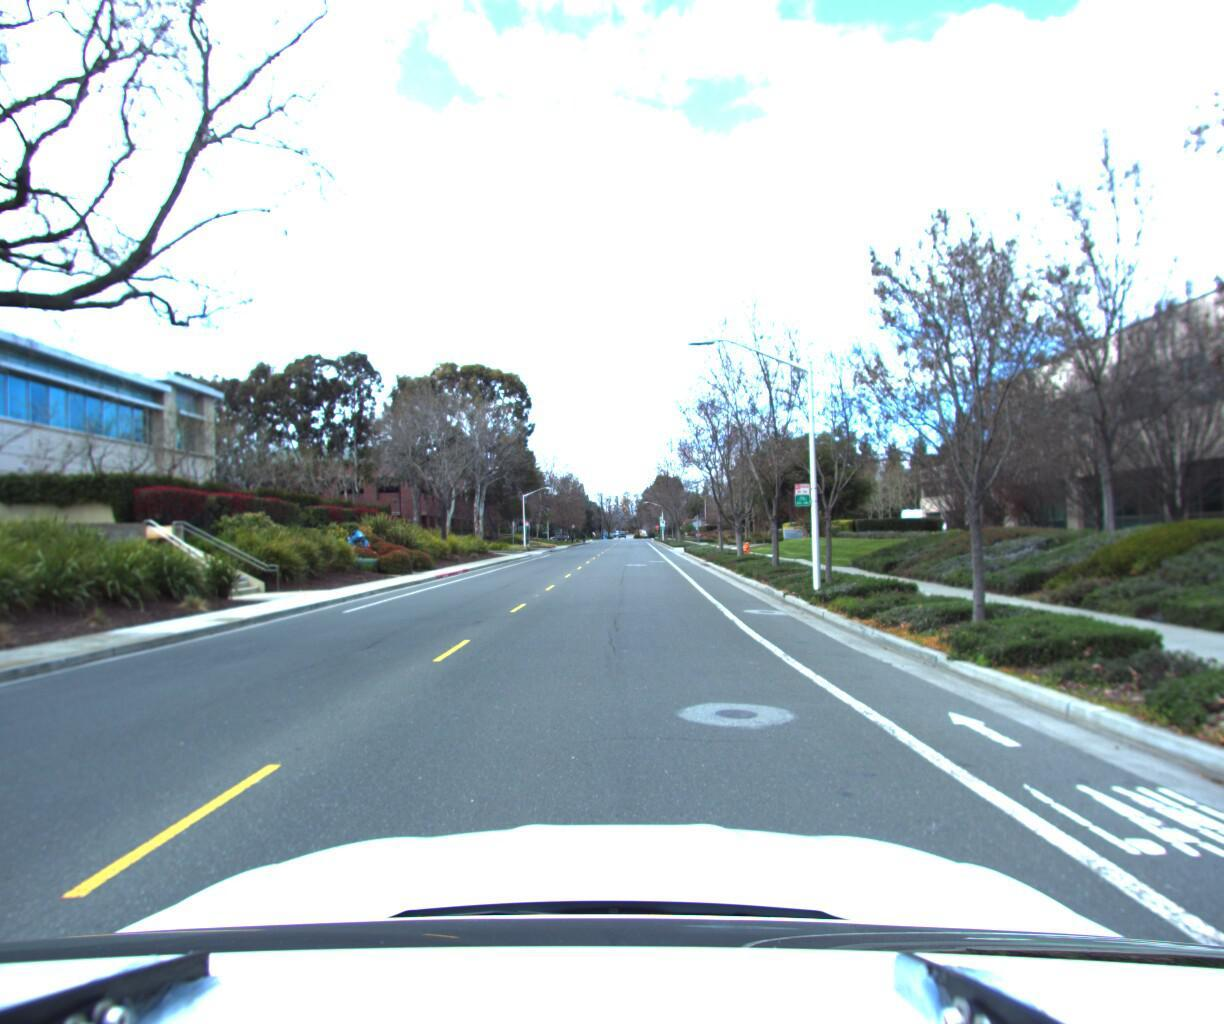car: (895, 505, 930, 538)
